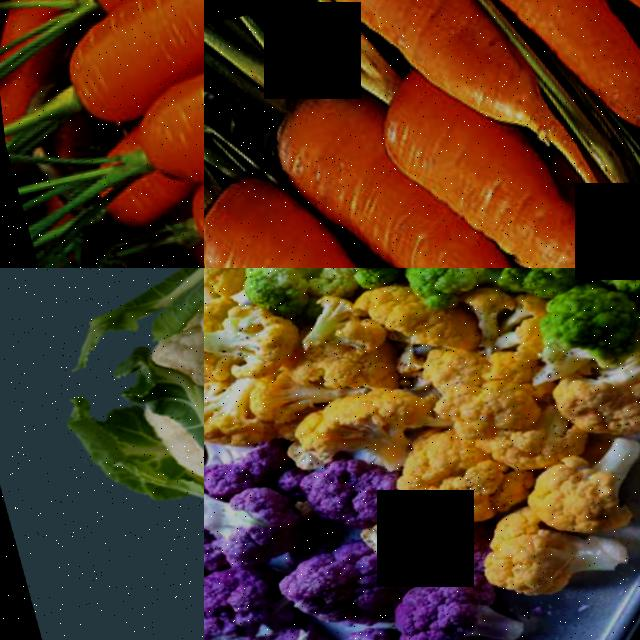carrot: (370, 95, 571, 268), (249, 105, 418, 268), (482, 0, 637, 155), (340, 0, 508, 132), (586, 0, 640, 83)
cauliflower: (10, 268, 204, 640)
